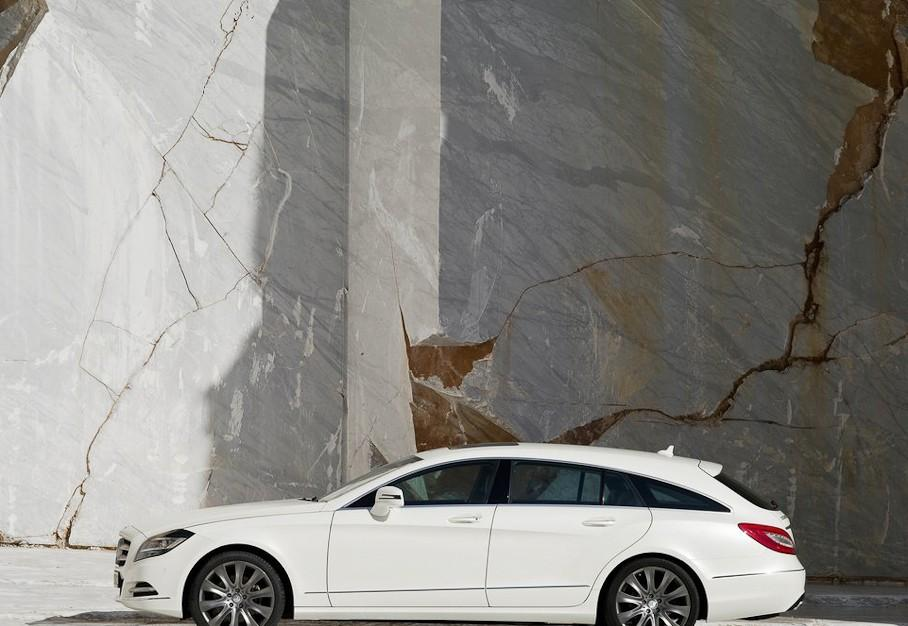Wagon: (111, 440, 807, 626)
